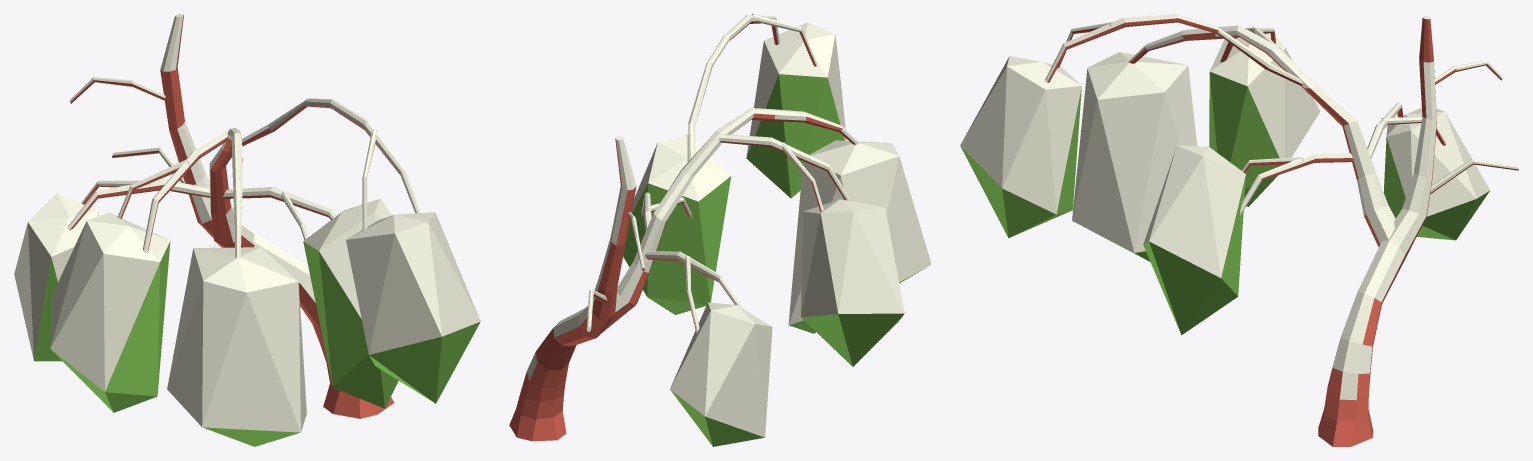
Rendered from Tree8_winter.FBX.
3 views of the same model, side by side, from view 1: azimuth 30°, elevation 25°; view 2: azimuth 150°, elevation 25°; view 3: azimuth 270°, elevation 25° (orthographic). The views are drawn at different scales.
Parts seen in each view (by area): view 1: tree6.002; view 2: tree6.002; view 3: tree6.002.
Part boxes in pixels (box(x1,y1,x2,y2)): tree6.002: box(14, 14, 480, 446); tree6.002: box(509, 14, 931, 446); tree6.002: box(960, 14, 1518, 446).
Bounding box in the file's own units: 4.57 × 4.52 × 6.25.
